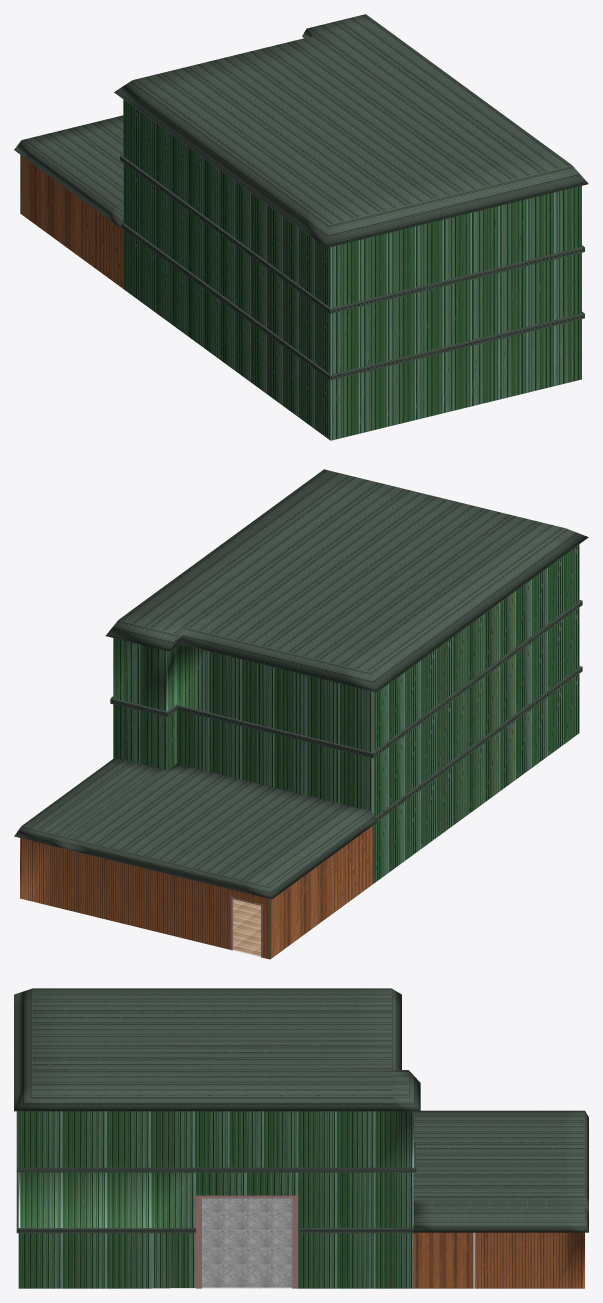
File: PostHuset.glb
3 renders of one model, top to bottom at view 1: azimuth 30°, elevation 25°; view 2: azimuth 150°, elevation 25°; view 3: azimuth 270°, elevation 25°, orthographic. The views are drawn at different scales.
Parts seen in each view (by area): view 1: PostHuset; view 2: PostHuset; view 3: PostHuset.
Part boxes in pixels (bbox=[...]): PostHuset: bbox=[14, 14, 588, 440]; PostHuset: bbox=[14, 469, 588, 959]; PostHuset: bbox=[14, 988, 588, 1288].
Size of the model in its own units: 12.52 by 9.95 by 26.05.
1 material, 1 textured.
